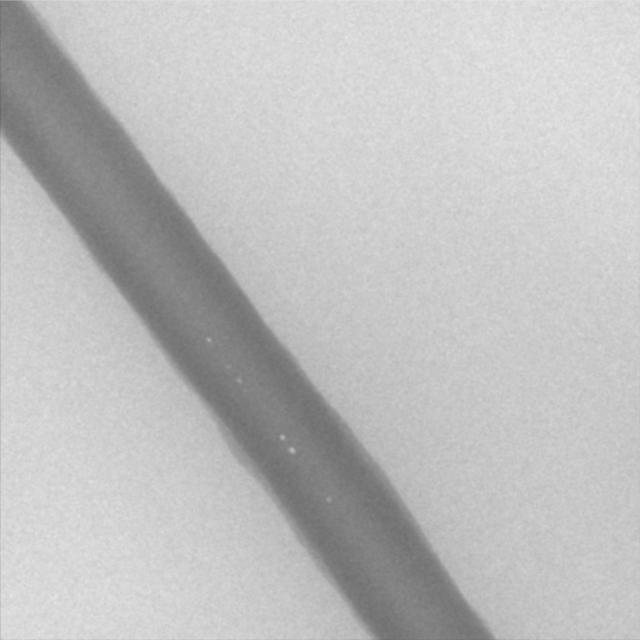air hole: (323, 493, 334, 505), (204, 334, 214, 346), (234, 375, 244, 386), (288, 443, 298, 454), (277, 432, 286, 443)
